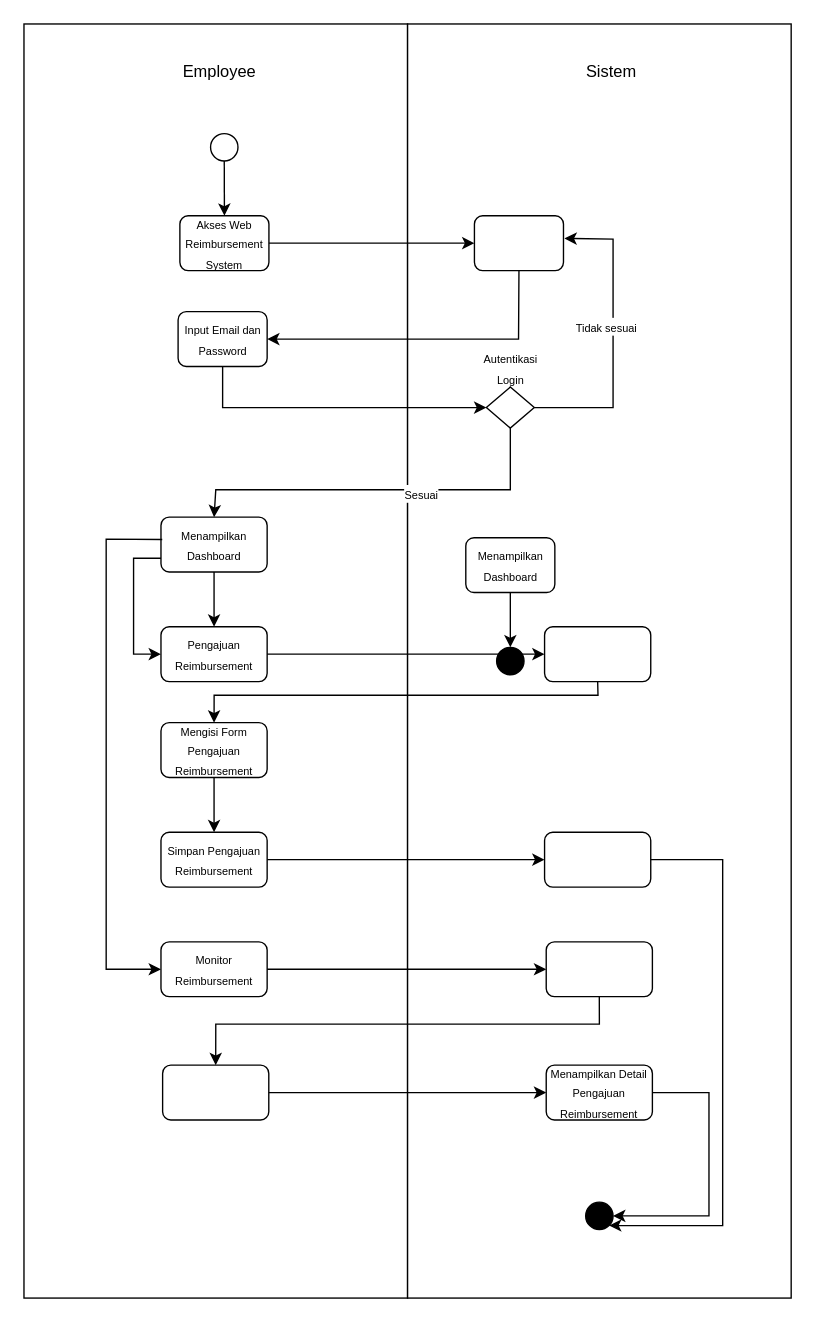
The diagram is 815 pixels wide and 1322 high, and some of its shapes have lost their labels. Each missing label, with the box of its shape:
Klik Detail: (161, 1064, 269, 1120)
Menampilkan form Login: (473, 214, 563, 271)
Menampilkan Form Pengajuan Reimbursement: (543, 625, 651, 682)
Menampilkan List Reimbursement yang telah diajukan: (545, 941, 652, 997)
Menyimpan dan mengirim proses ke approval PM: (543, 831, 651, 887)
